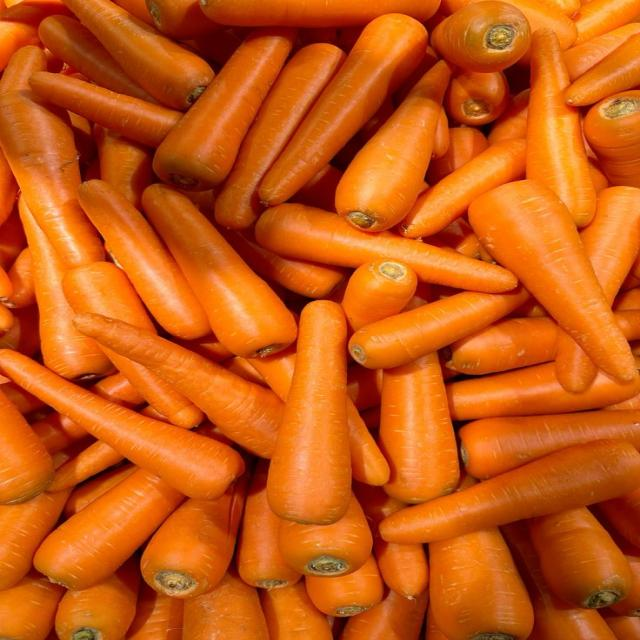carrot: (0, 350, 244, 499), (469, 179, 636, 380), (259, 13, 426, 206), (75, 315, 282, 457), (143, 184, 297, 357), (380, 440, 639, 542), (214, 43, 346, 228), (154, 27, 297, 191), (255, 203, 517, 292), (78, 175, 211, 339), (335, 61, 453, 232), (267, 301, 351, 525), (0, 90, 103, 266), (34, 469, 184, 589), (19, 196, 113, 379), (65, 0, 214, 110), (349, 287, 529, 368), (140, 473, 248, 598), (527, 30, 595, 227), (501, 522, 614, 639), (400, 138, 526, 238), (458, 410, 639, 479), (379, 351, 459, 503), (428, 527, 533, 639), (29, 72, 182, 148), (447, 363, 639, 420), (527, 507, 633, 608), (39, 15, 156, 103), (220, 229, 350, 299), (354, 483, 428, 600), (236, 460, 300, 591), (101, 346, 203, 428), (279, 494, 373, 576), (55, 554, 140, 639), (431, 0, 531, 72), (0, 491, 69, 592), (580, 186, 639, 304), (201, 0, 438, 28), (444, 317, 557, 375), (443, 318, 557, 375), (182, 567, 269, 639), (0, 391, 53, 504), (340, 258, 417, 332), (583, 90, 639, 187), (564, 34, 639, 106), (93, 124, 154, 209), (305, 554, 383, 617), (0, 569, 65, 639), (564, 22, 639, 82), (347, 382, 389, 485), (341, 590, 428, 639), (260, 581, 333, 639), (63, 463, 137, 518), (48, 438, 123, 491), (443, 68, 509, 126), (426, 126, 488, 185), (509, 0, 578, 50), (605, 523, 639, 619), (126, 582, 183, 639), (145, 0, 224, 40), (574, 0, 639, 45), (289, 159, 343, 211), (429, 217, 490, 261), (487, 86, 530, 145), (185, 29, 246, 68), (598, 489, 639, 546), (32, 411, 86, 454), (0, 45, 46, 93), (0, 305, 39, 355), (4, 248, 35, 309), (0, 21, 39, 69), (0, 199, 26, 270), (0, 0, 71, 25), (0, 149, 18, 223), (602, 610, 639, 639), (115, 0, 154, 26), (424, 603, 448, 639), (0, 305, 13, 332)
